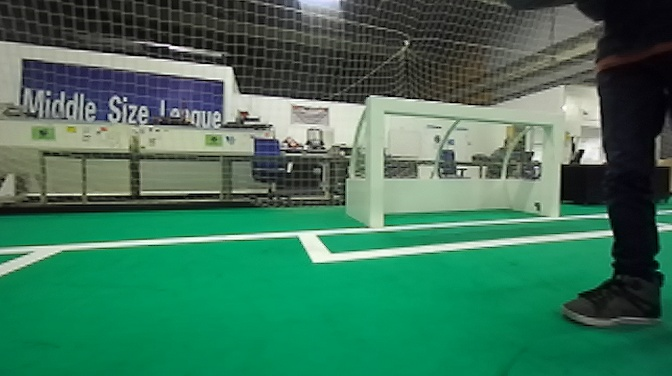goalpost: (350, 85, 394, 232), (536, 100, 568, 233)
human: (557, 1, 672, 346)
